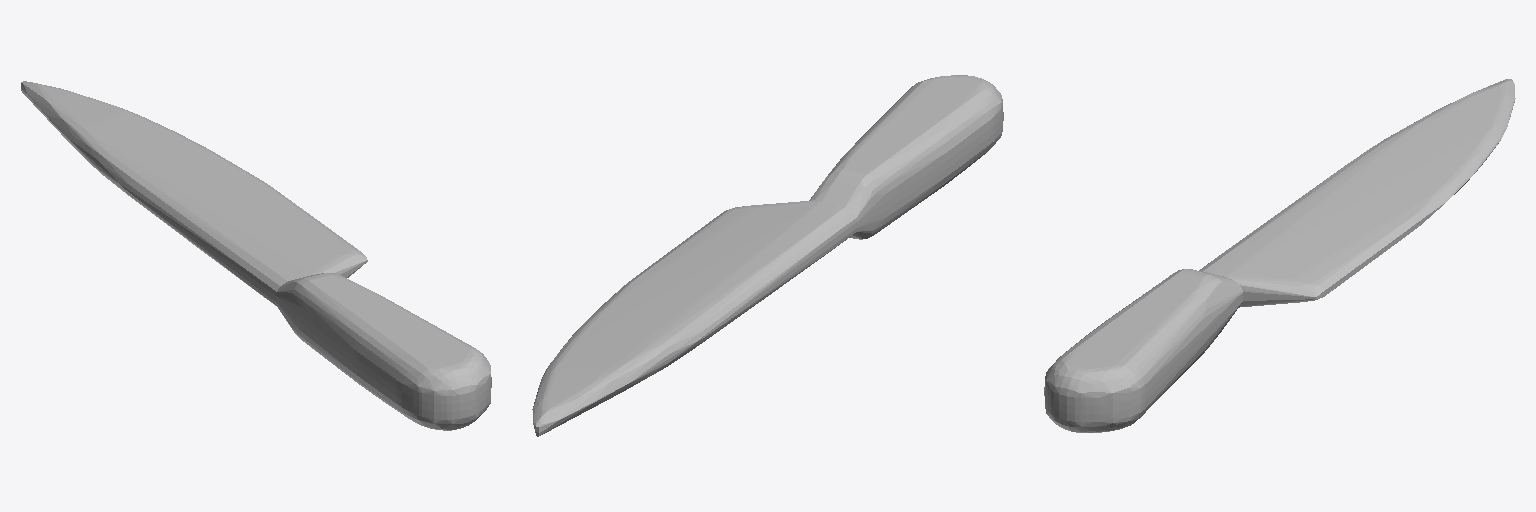
URDF robot description (root):
<robot name="root">
  <link name="object">
    <visual>
      <origin xyz="0 0 0" rpy="0 0 0"/>
      <geometry>
        <mesh filename="coacd_convex_piece_0.obj" scale="1.0000E+00 1.0000E+00 1.0000E+00"/>
      </geometry>
      <material name="">
        <color rgba="7.50E-01 7.50E-01 7.50E-01 1"/>
      </material>
    </visual>
    <collision>
      <origin xyz="0 0 0" rpy="0 0 0"/>
      <geometry>
        <mesh filename="coacd_convex_piece_0.obj" scale="1.0000E+00 1.0000E+00 1.0000E+00"/>
      </geometry>
    </collision>
    <visual>
      <origin xyz="0 0 0" rpy="0 0 0"/>
      <geometry>
        <mesh filename="coacd_convex_piece_1.obj" scale="1.0000E+00 1.0000E+00 1.0000E+00"/>
      </geometry>
      <material name="">
        <color rgba="7.50E-01 7.50E-01 7.50E-01 1"/>
      </material>
    </visual>
    <collision>
      <origin xyz="0 0 0" rpy="0 0 0"/>
      <geometry>
        <mesh filename="coacd_convex_piece_1.obj" scale="1.0000E+00 1.0000E+00 1.0000E+00"/>
      </geometry>
    </collision>
  </link>
</robot>

--- Facts derived from the render (not from the file) ---
3 views of the same robot in one strip: view 1: azimuth 30°, elevation 25°; view 2: azimuth 150°, elevation 25°; view 3: azimuth 330°, elevation 25° (orthographic).
Model root with 1 links and 0 joints (none), rooted at object, posed every joint at zero.
Links seen in each view (by area): view 1: object; view 2: object; view 3: object.
Boxes of the visible links, left/top/right/bottom form: object: left=21, top=81, right=491, bottom=430; object: left=532, top=75, right=1003, bottom=436; object: left=1044, top=79, right=1515, bottom=432.
Bounding box of the posed robot: 0.0336 × 0.2236 × 0.0173 m (x, y, z).
2 mesh visuals loaded from 2 distinct referenced files (2 OBJ).
